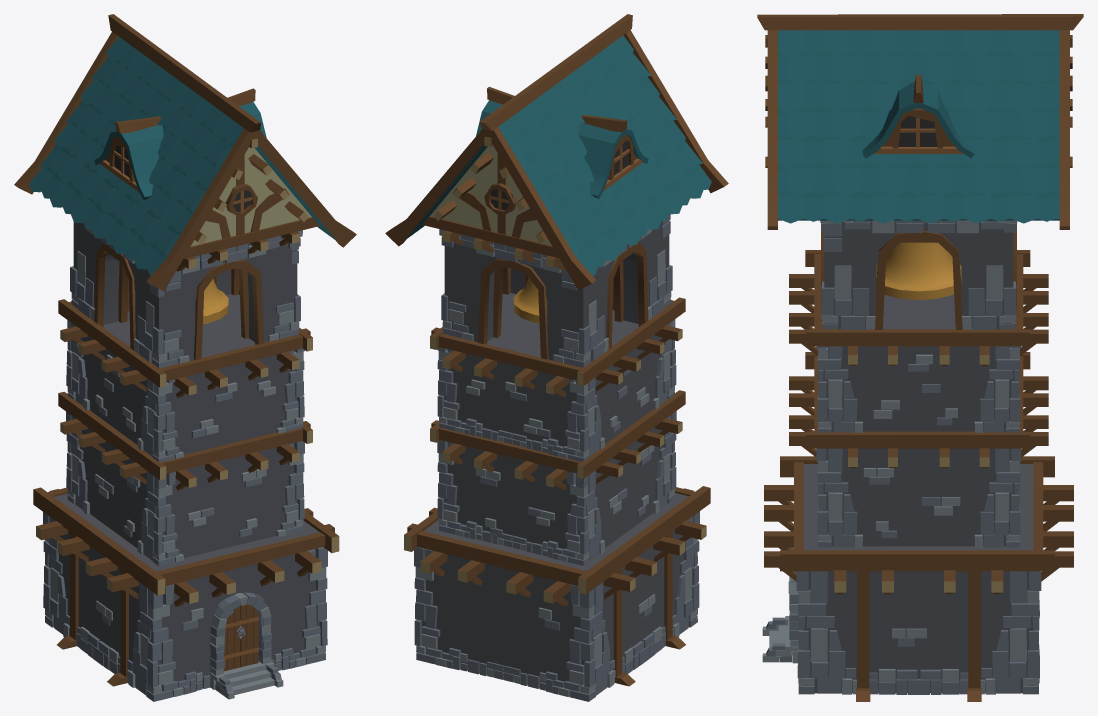
Rendered from Bell_Tower.glb.
The picture shows the model from 3 angles, left to right: view 1: azimuth 30°, elevation 25°; view 2: azimuth 150°, elevation 25°; view 3: azimuth 270°, elevation 25°; orthographic projection. The views are drawn at different scales.
Visible parts, largest first — view 1: Bell_Tower; view 2: Bell_Tower; view 3: Bell_Tower.
Part boxes in pixels (box(x1,y1,x2,y2)): Bell_Tower: box(14, 14, 356, 701); Bell_Tower: box(385, 14, 728, 701); Bell_Tower: box(757, 14, 1083, 701).
Bounding box in the file's own units: 1.94 × 4.76 × 2.23.
